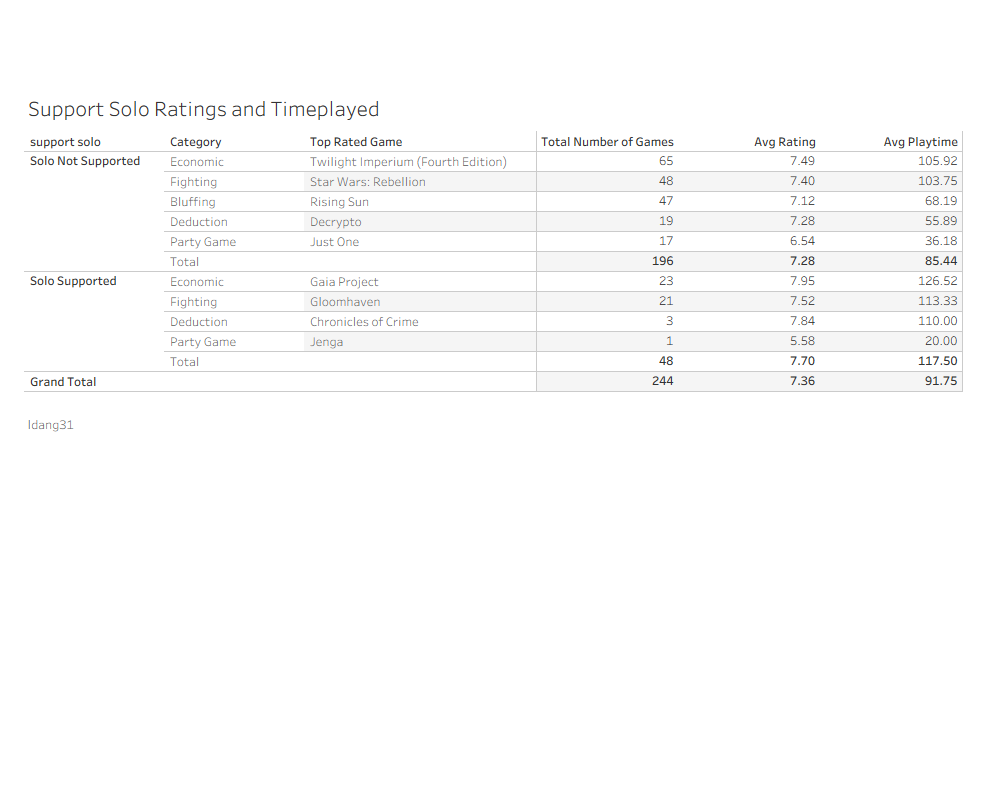

The dashboard page shown, as its layout file describes it:
{"tool":"tableau","page":{"name":"table","canvas":[1000,800],"ordinal":3},"visuals":[{"type":"worksheet","title":"1.1","mark":"Automatic","rows":["Calculation_5031069049974784","category","Calculation_5031069053067265"],"box":[24,88,963,327]},{"type":"text","box":[25,409,100,30]}]}

Visuals, with their boxes in screenshot pixels (x1, y1, x2, y2), scaled from the page's 1000x800 canvas onto the 1000x800 screenshot:
"1.1" worksheet: rect(24, 88, 987, 415)
text: rect(25, 409, 125, 439)
